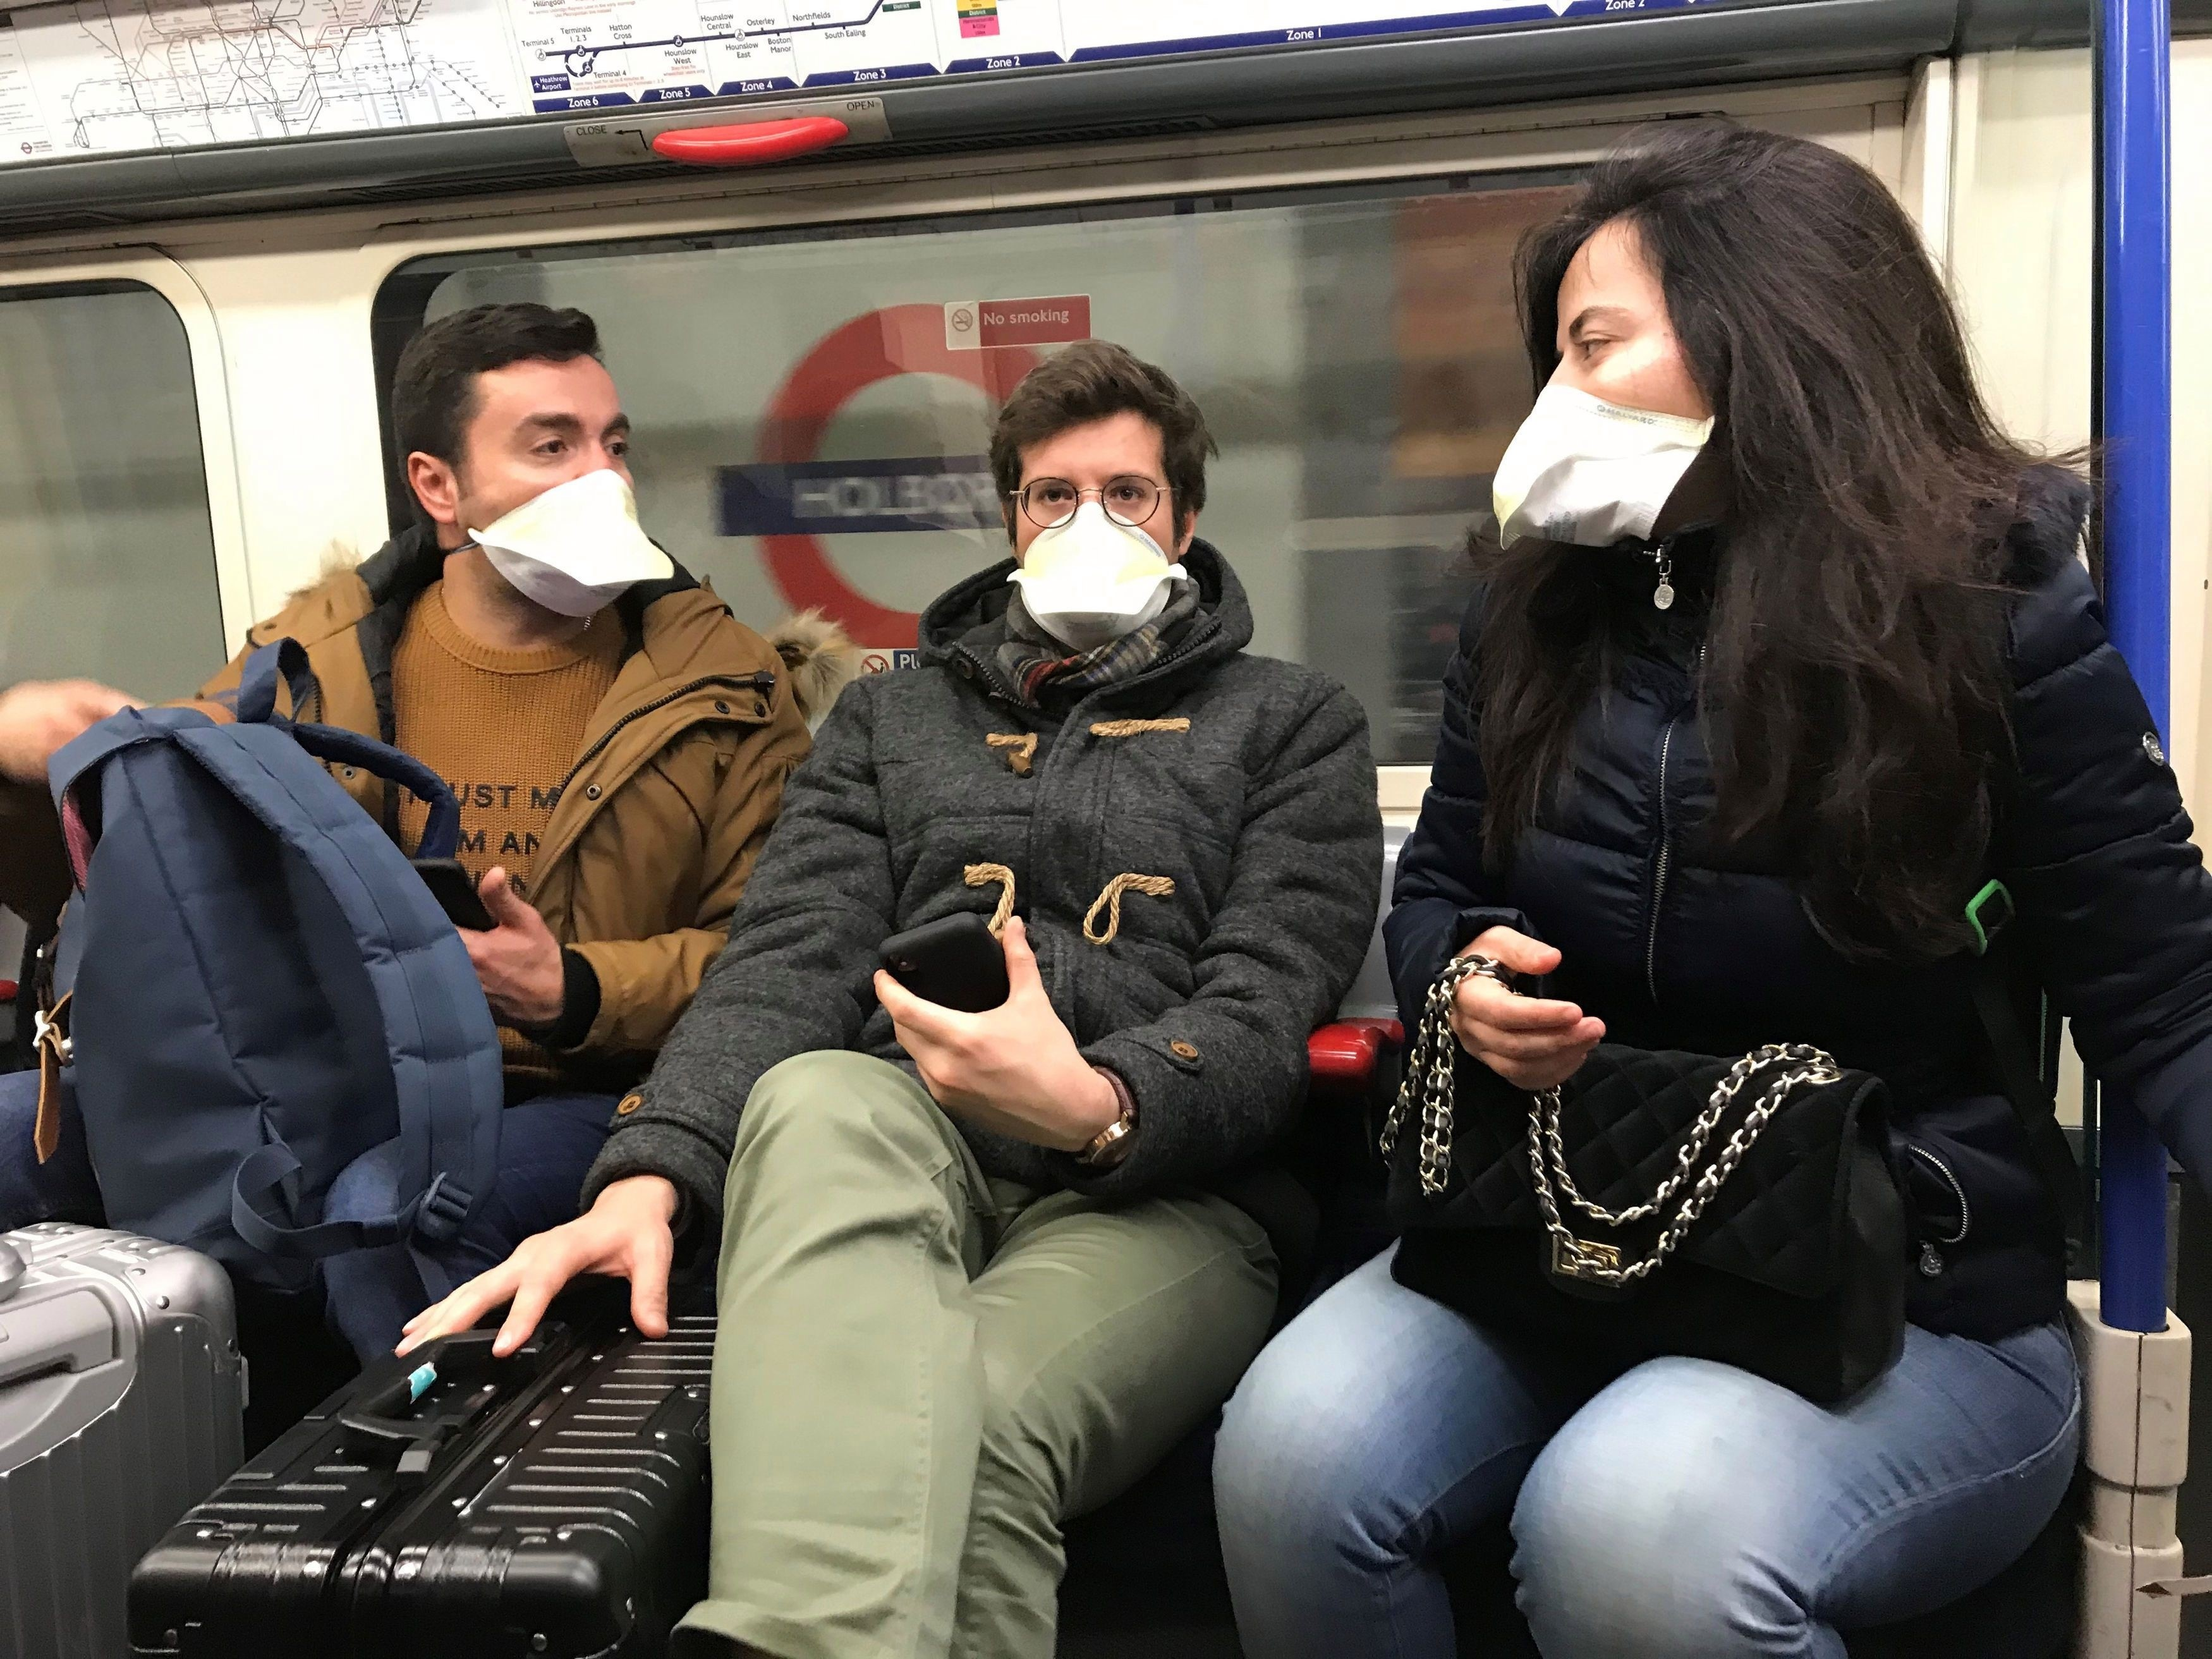face_with_mask: (1462, 208, 1747, 596), (387, 334, 696, 650), (971, 395, 1211, 676)
